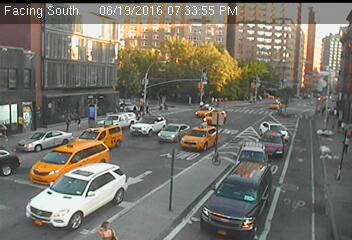neg: (131, 128, 158, 164), (315, 94, 340, 127), (88, 61, 110, 90), (289, 164, 311, 193), (212, 62, 234, 90), (205, 151, 226, 179), (163, 64, 183, 91), (130, 58, 150, 85), (60, 151, 80, 178), (269, 96, 289, 122), (44, 117, 64, 143), (44, 73, 63, 100), (175, 193, 193, 217), (240, 144, 258, 168), (87, 171, 105, 195), (291, 56, 308, 78), (230, 198, 246, 220), (251, 44, 267, 66)
